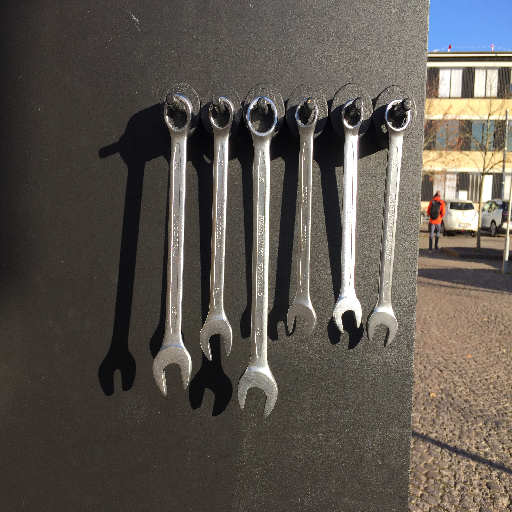bottom: (148, 345, 198, 398), (236, 362, 278, 418), (198, 314, 233, 361), (363, 306, 400, 347), (284, 300, 320, 337), (331, 299, 364, 332)
top: (243, 96, 280, 139), (162, 90, 195, 137), (207, 94, 237, 135), (290, 96, 322, 129), (384, 98, 414, 133), (339, 97, 366, 131)
